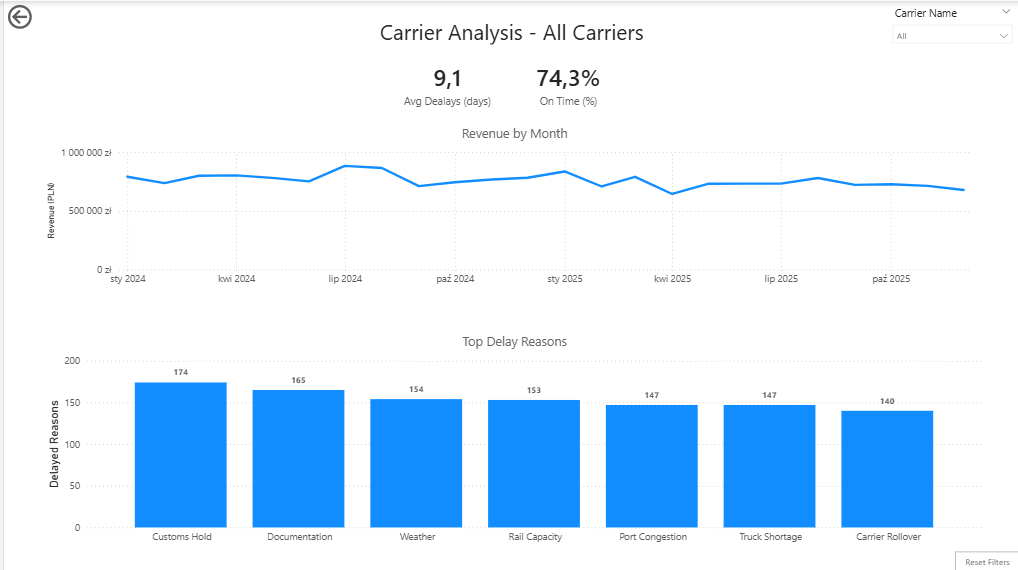

The dashboard page shown, as its layout file describes it:
{"tool":"powerbi","page":{"name":"Carriers Analysis","canvas":[1280,720],"ordinal":1},"visuals":[{"type":"actionButton","box":[0,0,100,40],"z":0},{"type":"cardVisual","fields":{"Data":["dim_calendar.On Time % Display"]},"box":[640,55.4,141,100.2],"z":1000},{"type":"cardVisual","fields":{"Data":["fact_shipments.Śr. opóźnienie %"]},"box":[478.5,55.4,161.5,100.2],"z":2000},{"type":"lineChart","title":"Revenue by Month","fields":{"Y":["fact_shipments.Przychód"],"Category":["dim_calendar.MonthStartDate"]},"box":[49.6,155.6,1188.6,213],"z":3000},{"type":"clusteredColumnChart","title":"Top Delay Reasons","fields":{"Category":["fact_shipments.DelayReason"],"Y":["fact_shipments.Opóżnione wysyłki"]},"box":[49.6,417.3,1188.6,275.3],"z":4000},{"type":"actionButton","box":[1197.3,694,82.4,26],"z":5000},{"type":"slicer","fields":{"Values":["dim_carriers.CarrierName"]},"box":[1108.6,0,171.4,62],"z":6000},{"type":"textbox","box":[467.8,21.4,344.3,36],"z":7000}]}

Visuals, with their boxes in screenshot pixels (x1, y1, x2, y2), scaled from the page's 1280x720 canvas onto the 1018x570 screenshot:
actionButton: [left=0, top=0, right=80, bottom=32]
cardVisual - dim_calendar.On Time % Display: [left=509, top=44, right=621, bottom=123]
cardVisual - fact_shipments.Śr. opóźnienie %: [left=381, top=44, right=509, bottom=123]
"Revenue by Month" lineChart: [left=39, top=123, right=985, bottom=292]
"Top Delay Reasons" clusteredColumnChart: [left=39, top=330, right=985, bottom=548]
actionButton: [left=952, top=549, right=1017, bottom=569]
slicer - dim_carriers.CarrierName: [left=882, top=0, right=1017, bottom=49]
textbox: [left=372, top=17, right=646, bottom=45]
